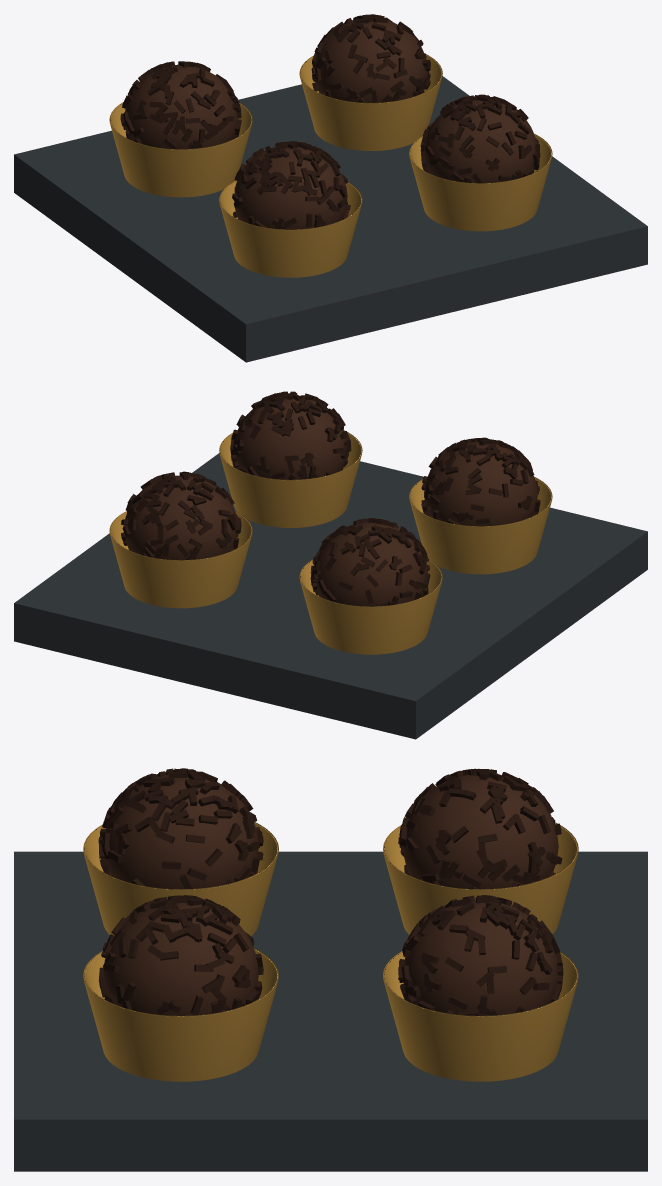
The model's file is brigadeiro.glb.
3 renders of one model, top to bottom at view 1: azimuth 30°, elevation 25°; view 2: azimuth 150°, elevation 25°; view 3: azimuth 270°, elevation 25°, orthographic. The views are drawn at different scales.
Parts seen in each view (by area): view 1: tabua, forminha, chocolate, granulado; view 2: tabua, forminha, chocolate, granulado; view 3: tabua, chocolate, forminha, granulado.
Boxes of the visible parts, x1,y1,x2,y2 form: tabua: (14,76,647,362); forminha: (109,54,552,277); chocolate: (125,20,536,229); granulado: (120,14,540,229); tabua: (14,453,647,739); forminha: (109,430,552,654); chocolate: (125,398,537,606); granulado: (121,391,540,606); tabua: (14,851,647,1171); chocolate: (103,774,558,1015); forminha: (83,822,578,1081); granulado: (98,768,563,1015).
Bounding box in the file's own units: 0.11 × 0.0378 × 0.11.
